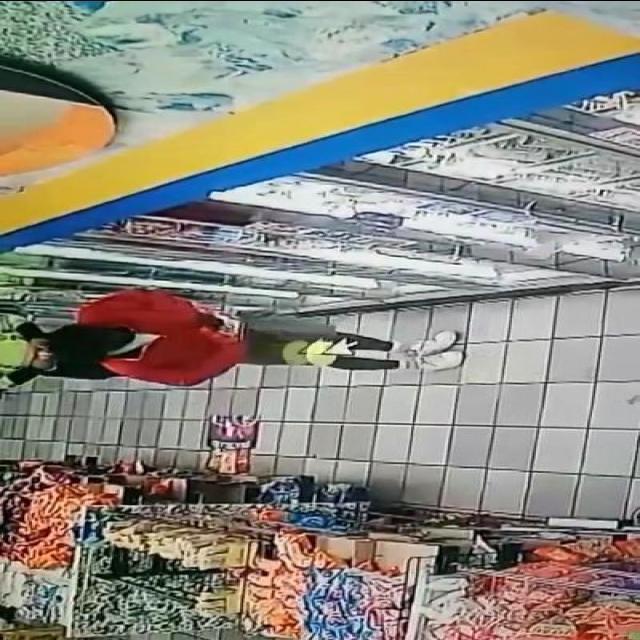Shoplifting: (23, 280, 513, 395)
